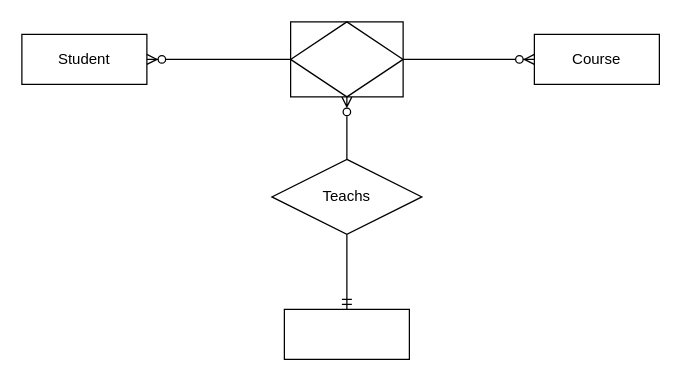
The diagram is 681 pixels wide and 381 high, and some of its shapes have lost their labels. The shapes that lost their labels are listed below. From the top down, each one's centre as x and y in pixels, then its label:
(346,59): Enroll
(346,333): Professor
